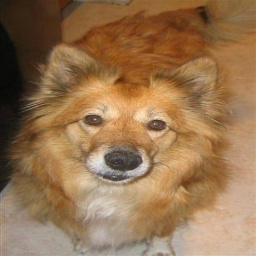dog: (13, 13, 230, 256)
